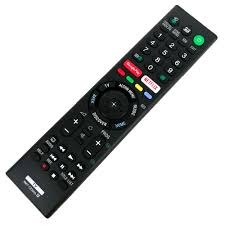remote control: (4, 3, 219, 218)
